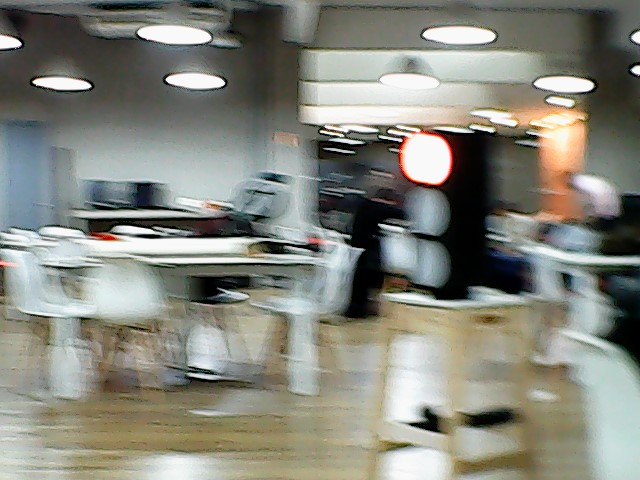vermelho: (393, 119, 496, 296)
